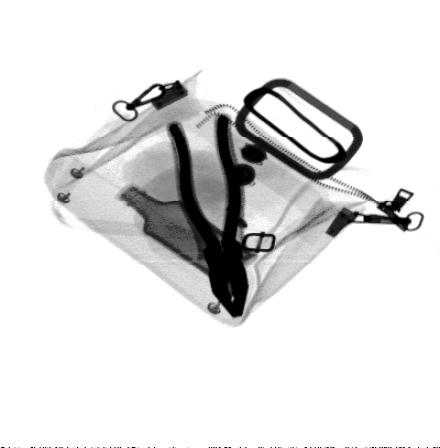Pliers: (167, 111, 255, 318)
